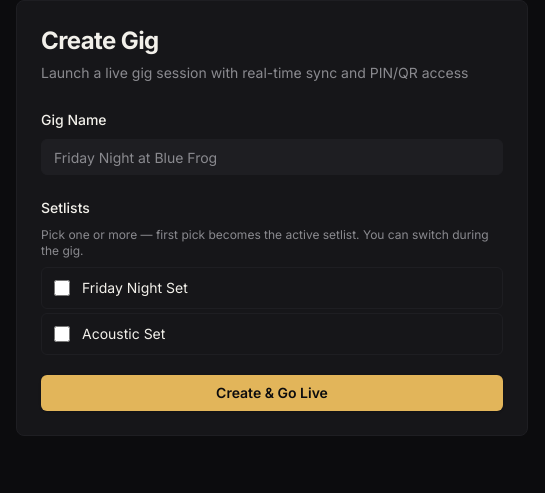
Test case: CreateGigForm › validates required setlist selection
This screenshot has width=545, height=493.
In the field labelled "Gig Name": (272, 157) [41,139,503,175], type "Live Concert"
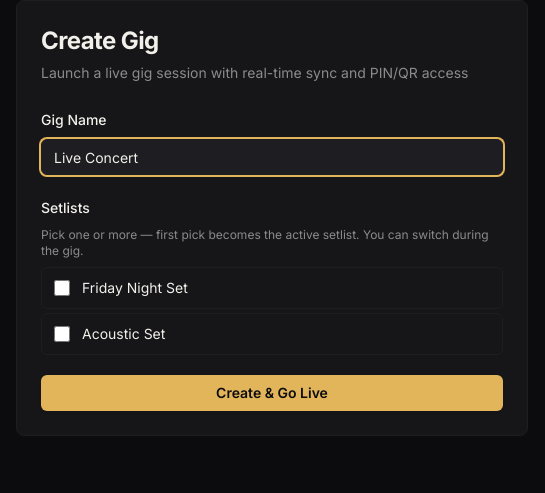
Click the button "Create & Go Live": (272, 393) [41,375,503,411]
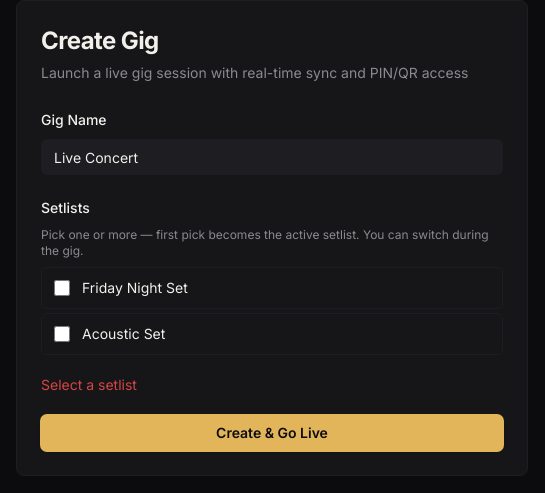
Expected: the text "Select a setlist" is shown, [41,376,137,393]
